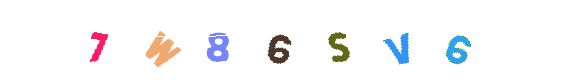6: (253, 0, 333, 80), (387, 0, 467, 80)
7: (58, 0, 138, 80)
8: (194, 0, 274, 80)
S: (273, 0, 353, 80)
V: (325, 0, 405, 80)
W: (119, 0, 199, 80)
